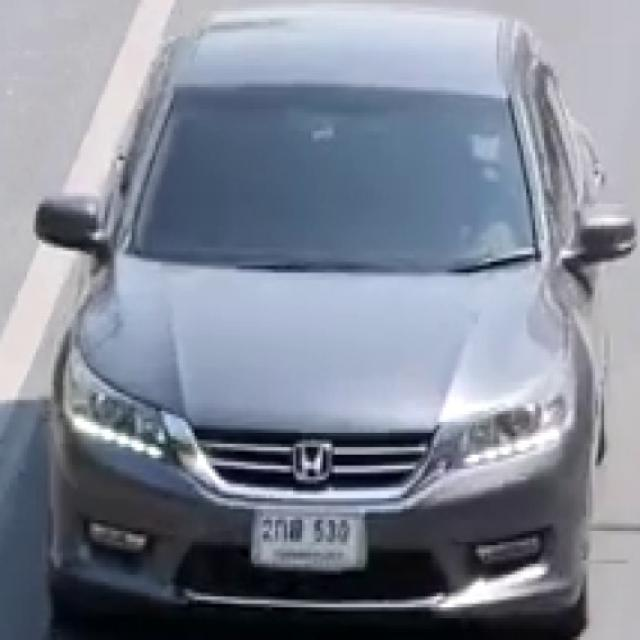plate: (254, 509, 363, 571)
